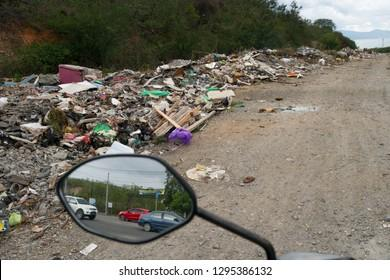road: (151, 55, 390, 259), (0, 213, 264, 259), (2, 259, 367, 278)
sky: (296, 0, 390, 32)
trash: (14, 77, 211, 145), (216, 58, 299, 89)
